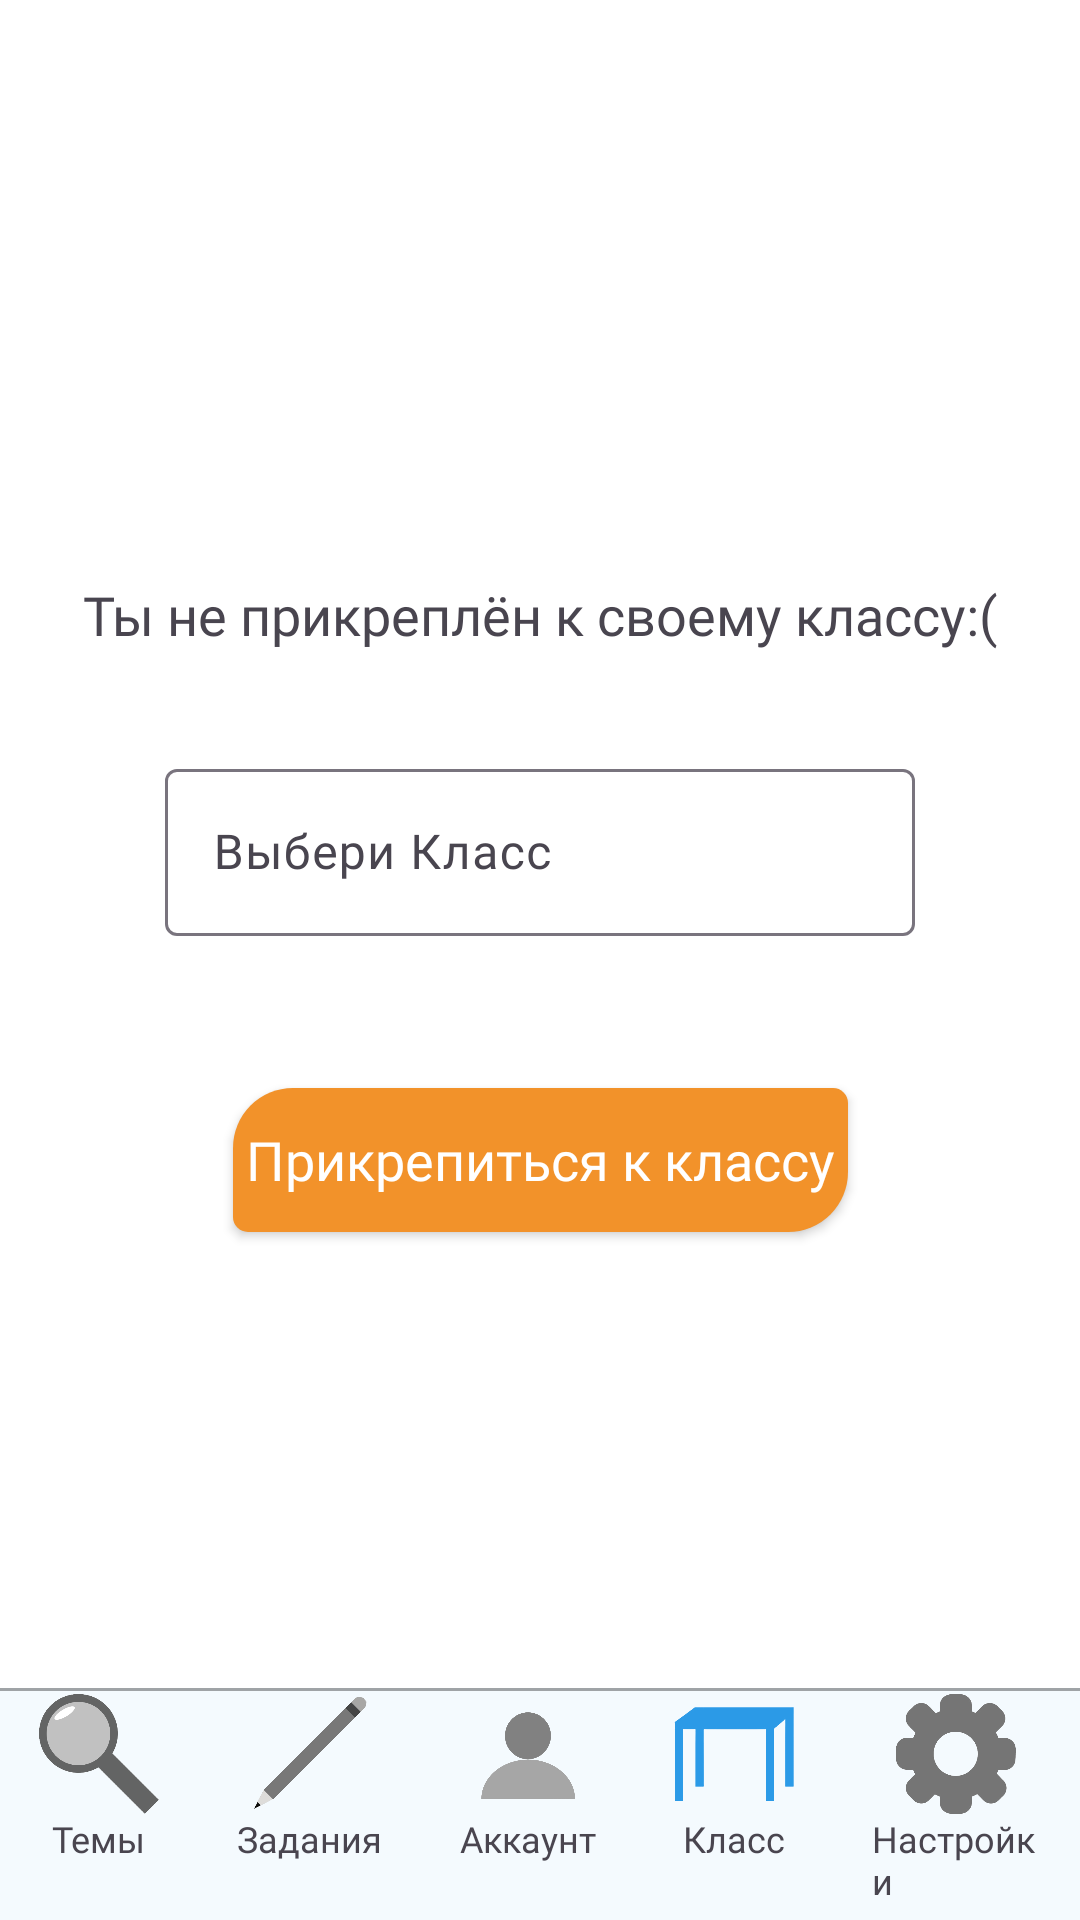

Point at icon controls on the screen. Image size 1080 x 1920, points as [x,y].
desk: [734,1754]
